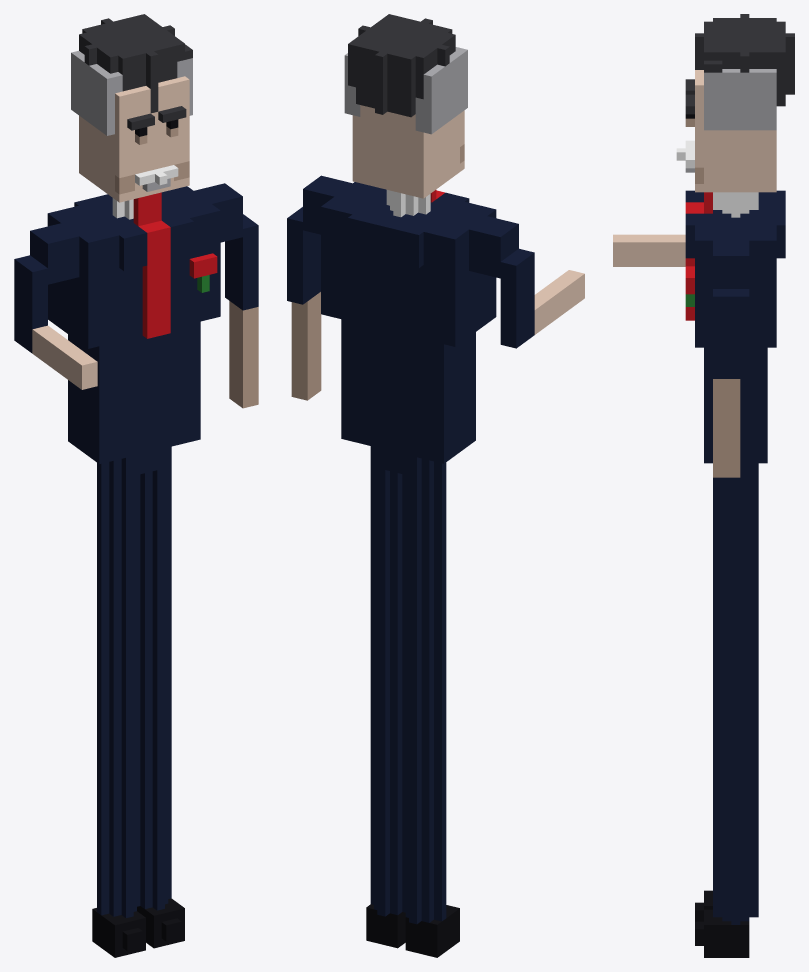
Rendered from Pedro.obj.
3 renders of one model, left to right at view 1: azimuth 30°, elevation 25°; view 2: azimuth 150°, elevation 25°; view 3: azimuth 270°, elevation 25°, orthographic.
Size of the model in its own units: 2.9 by 11 by 2.
1 material, 1 textured.
